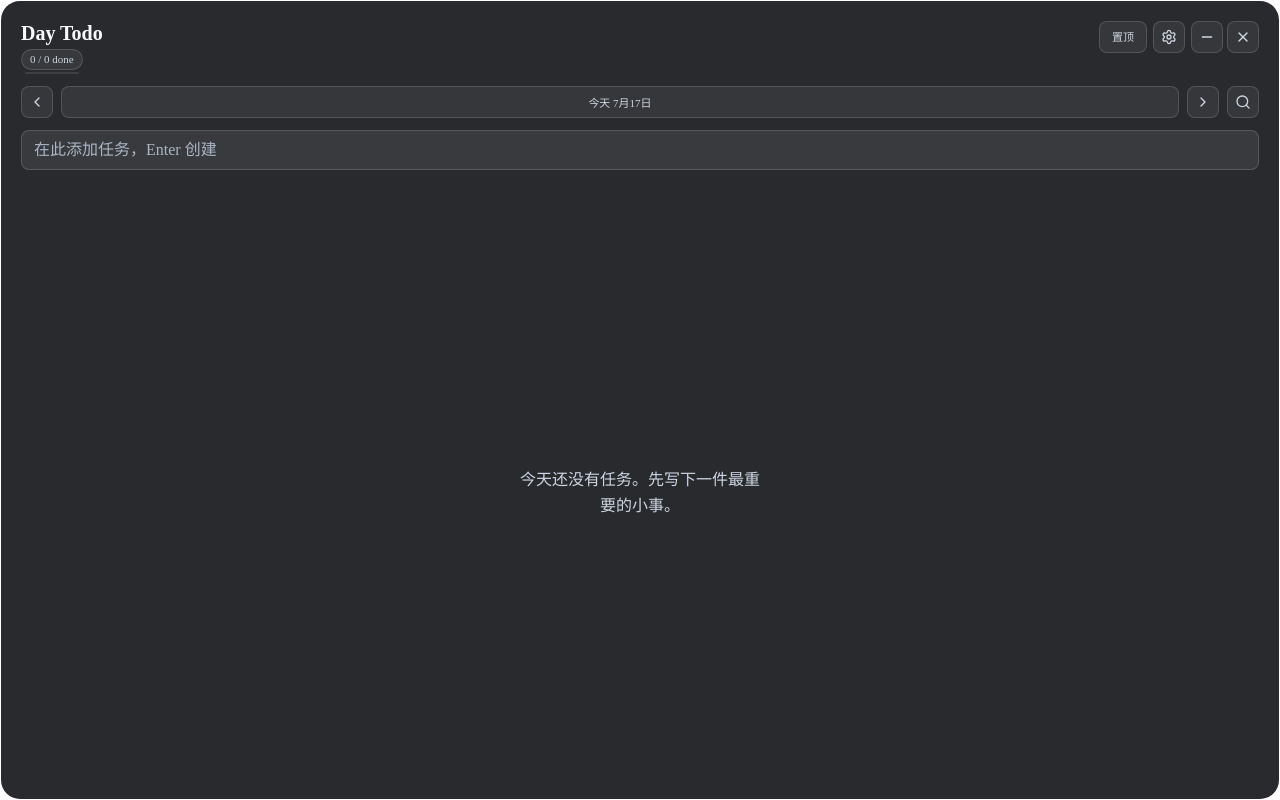
App native window lifecycle › catches up a deferred setting after the first invalid-fallback content save
This screenshot has width=1280, height=800.
Type "恢复后的任务" into the field labelled "添加任务" at x=640, y=150, box [21,130,1259,170]
Then press Enter
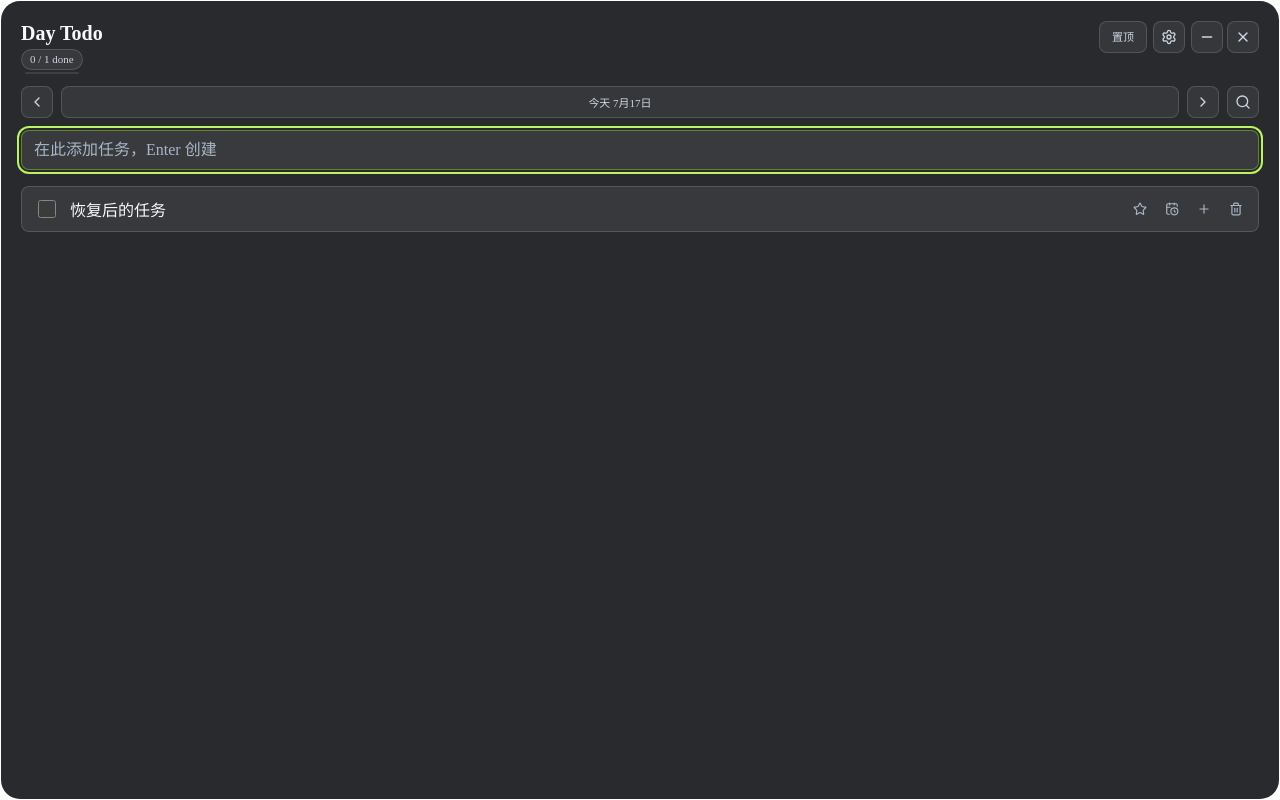
Click the button with aria-label "窗口层级：置顶" at x=1123, y=37, box [1099,21,1147,53]
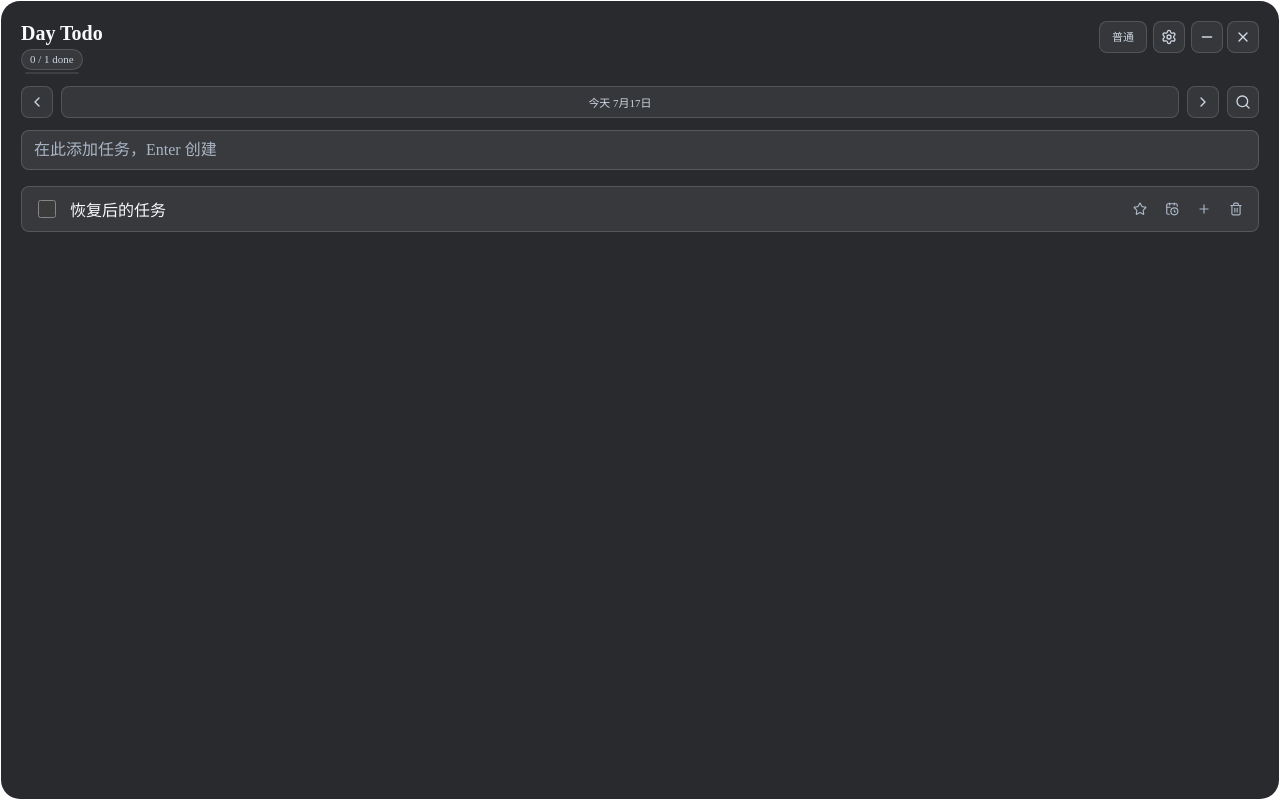
Now the button with aria-label "窗口层级：普通" is shown, box [1099,21,1147,53]
